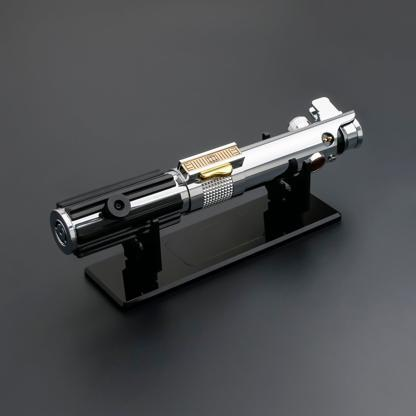lightsaber: (46, 91, 368, 261)
